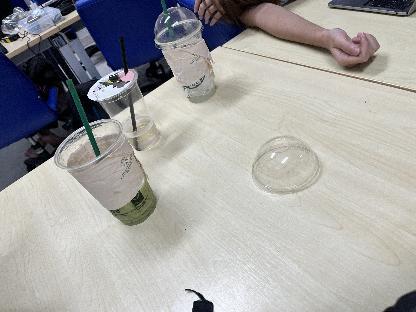Plastic Cup: (52, 117, 160, 231), (155, 17, 226, 104), (86, 69, 158, 149), (252, 134, 322, 194)
